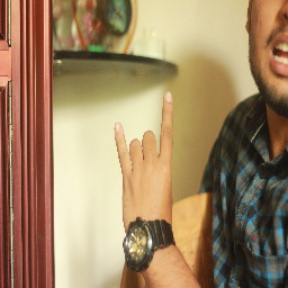V: (109, 90, 186, 232)
